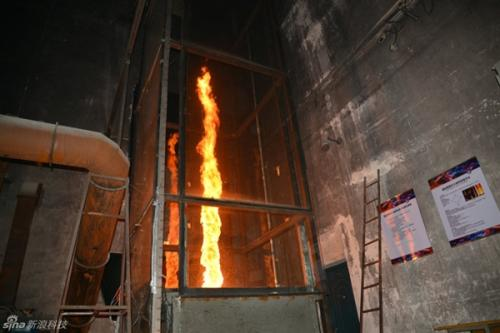fire: (197, 65, 225, 286)
